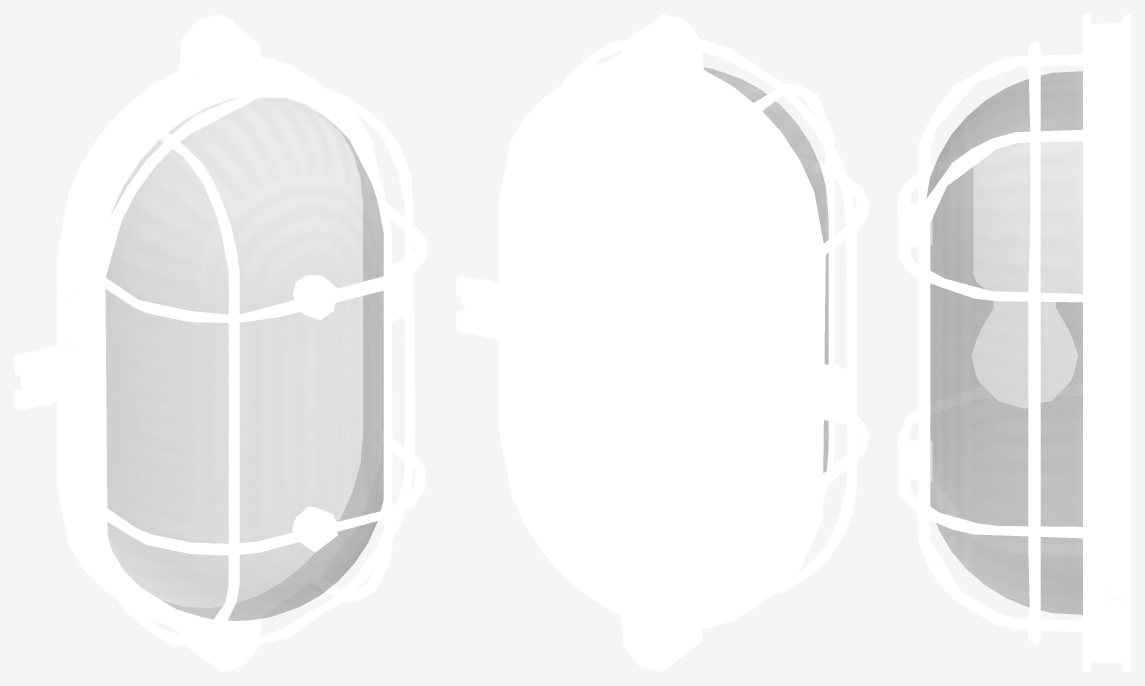
File: industrial_wall_lamp.glb
The picture shows the model from 3 angles, left to right: view 1: azimuth 30°, elevation 25°; view 2: azimuth 150°, elevation 25°; view 3: azimuth 270°, elevation 25°; orthographic projection.
Parts seen in each view (by area): view 1: industrial_wall_lamp; view 2: industrial_wall_lamp; view 3: industrial_wall_lamp.
Boxes of the visible parts, x1=… form: industrial_wall_lamp: x1=14, y1=14, x2=427, y2=671; industrial_wall_lamp: x1=456, y1=14, x2=869, y2=671; industrial_wall_lamp: x1=898, y1=14, x2=1130, y2=671.
Bounding box in the file's own units: 0.2734 × 0.4283 × 0.1393.
Materials: 2 (2 with a texture image).
